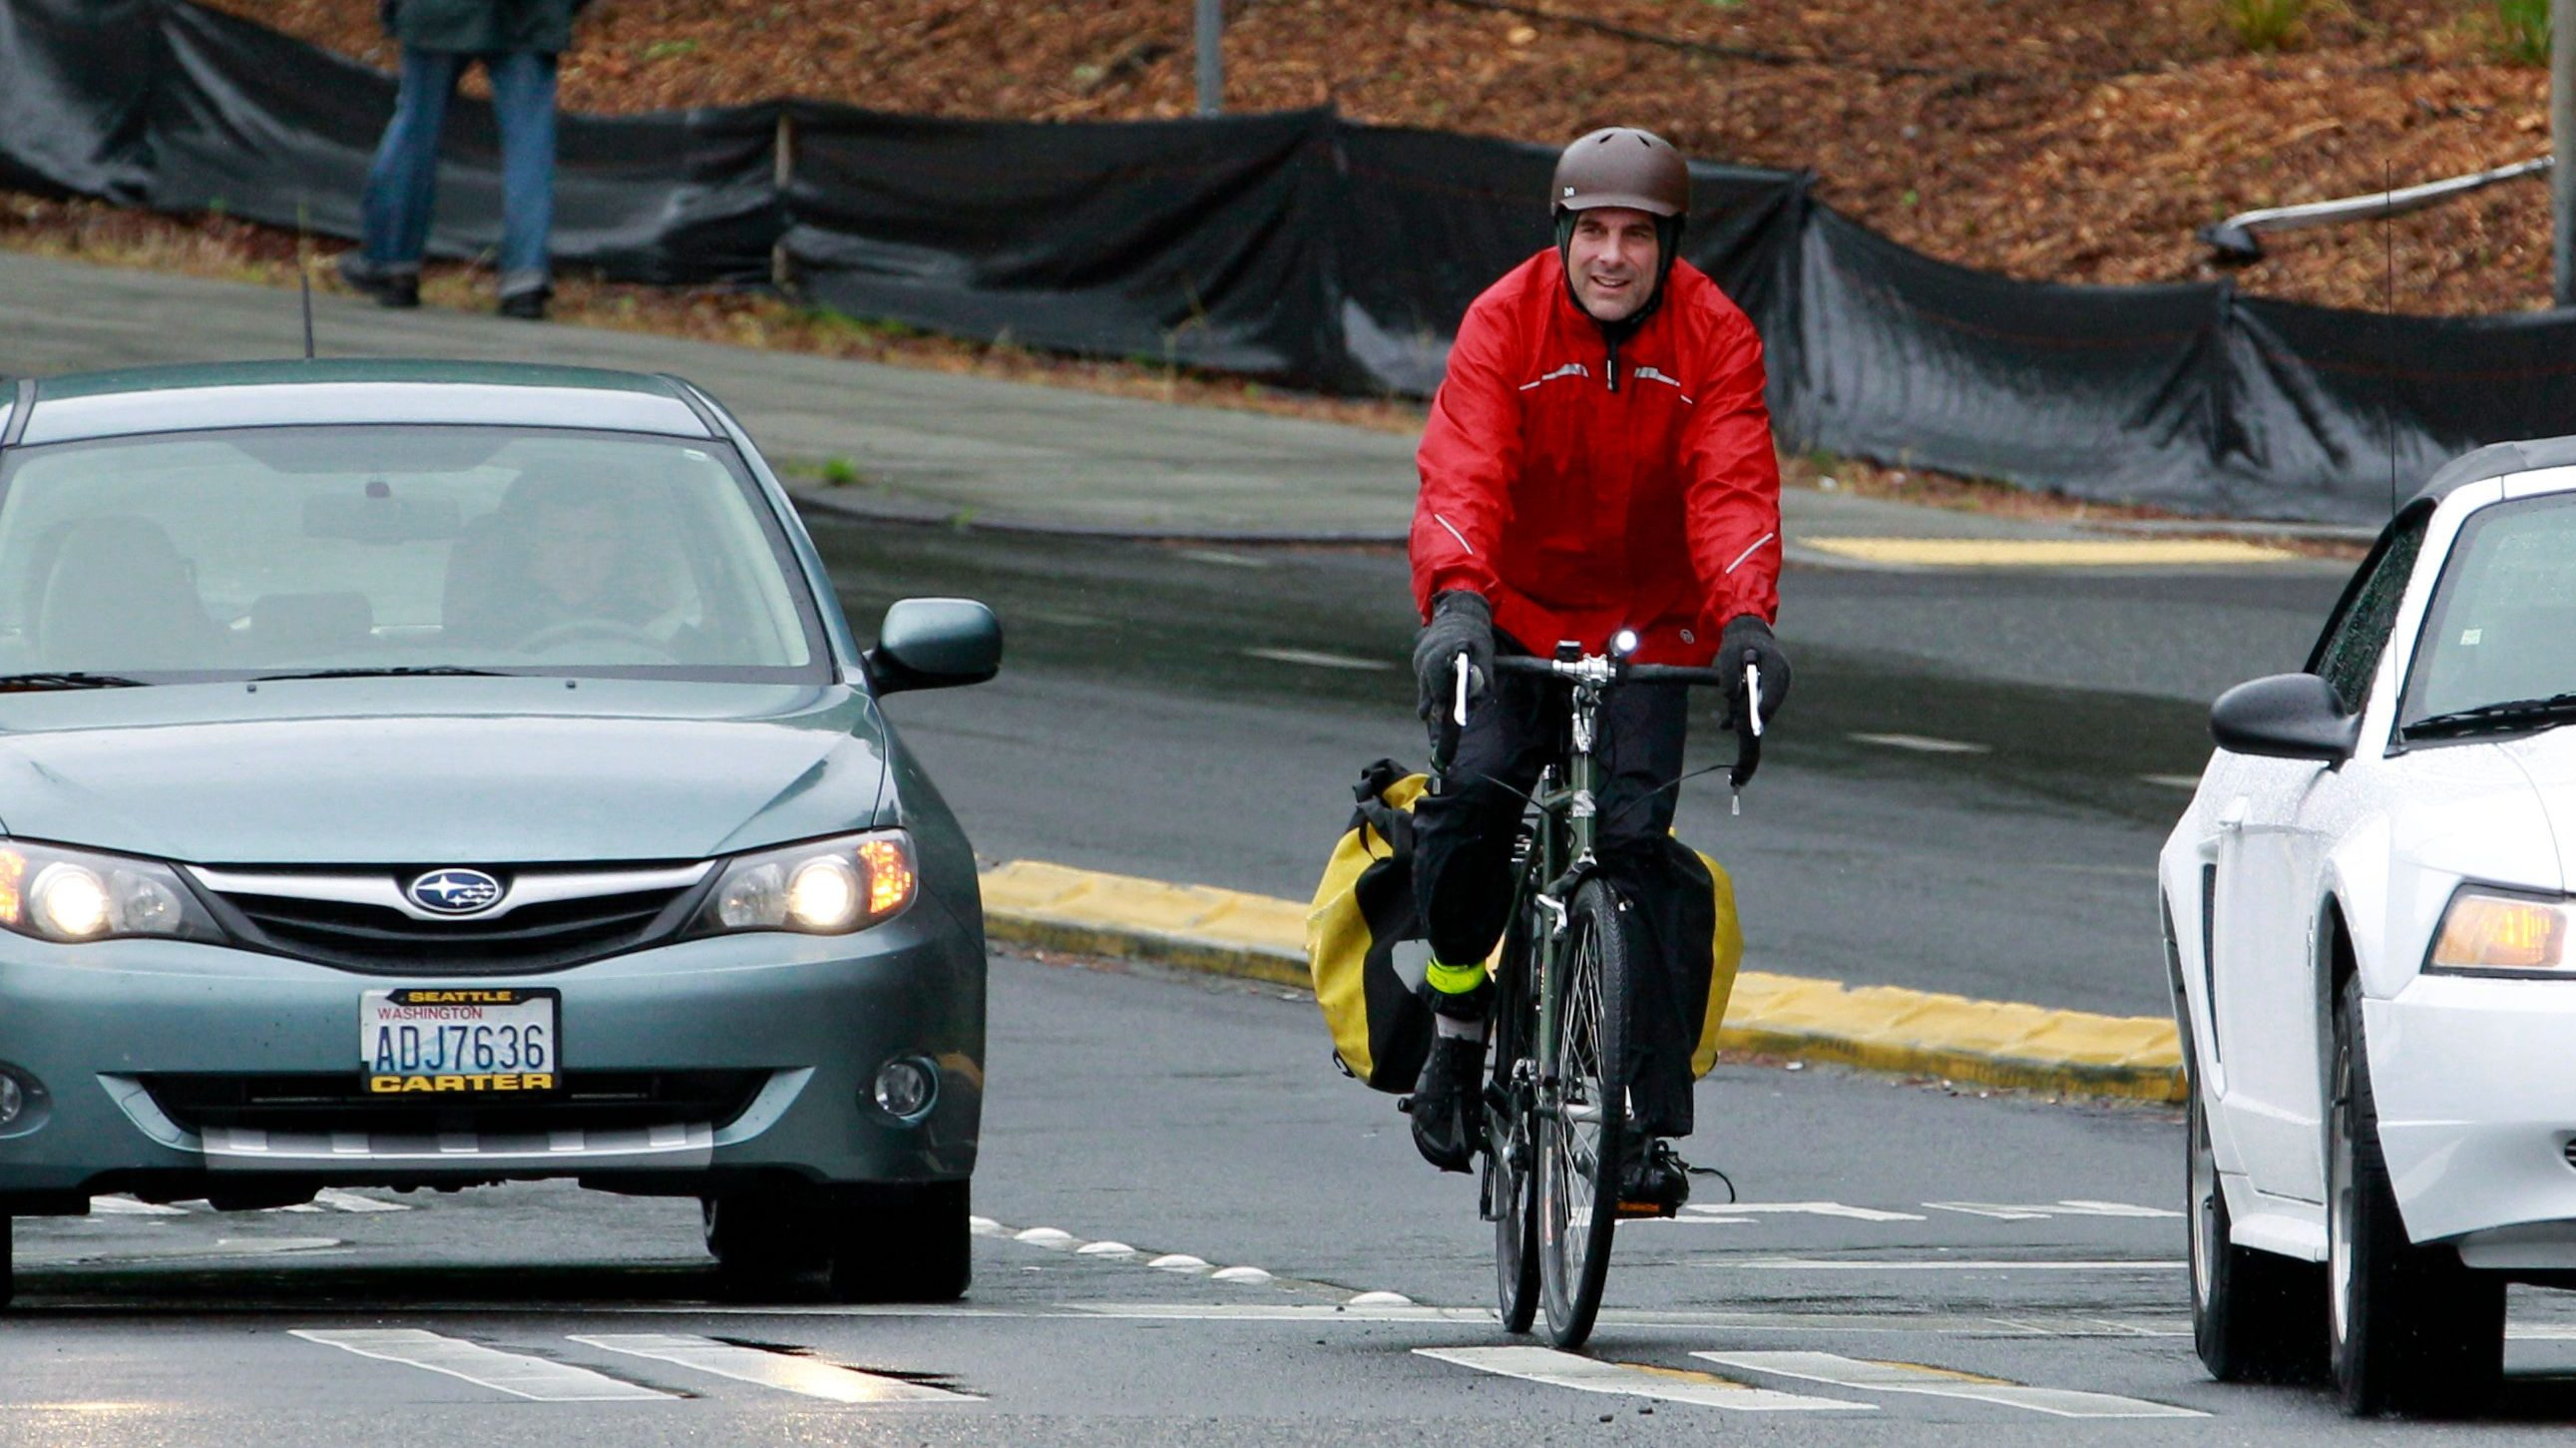commuter: (1300, 117, 1790, 1345)
